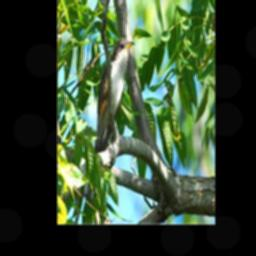Cuckoo: (94, 36, 134, 152)
